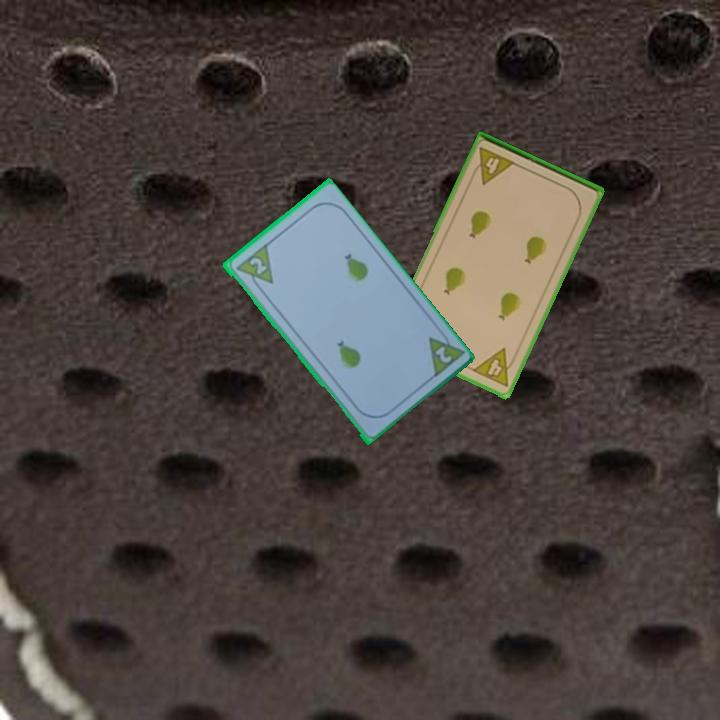2p: (245, 253, 269, 277), (431, 342, 454, 366)
4p: (468, 344, 520, 390), (467, 144, 518, 188)
